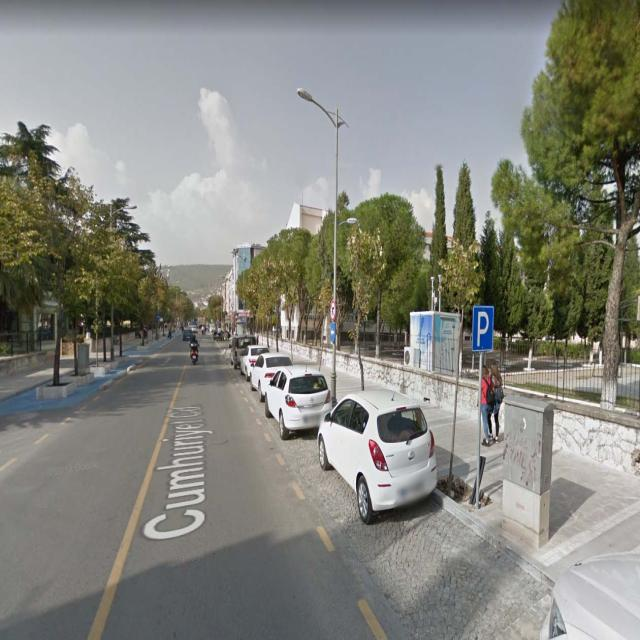park: (472, 306, 494, 352)
sagadonulmez: (330, 301, 335, 321)
sol: (330, 322, 334, 343)
